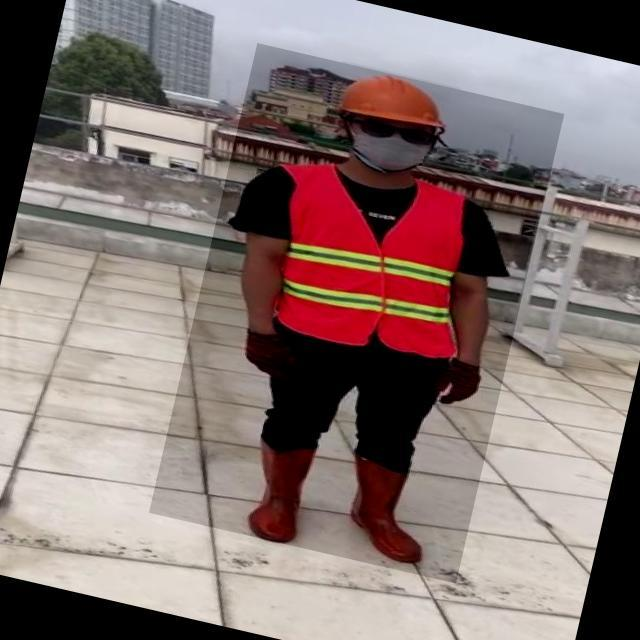Gloves: (236, 326, 304, 380), (428, 355, 485, 410)
Helmet: (330, 61, 461, 143)
Human: (149, 43, 564, 584)
Safety Boot: (334, 452, 442, 565), (240, 435, 317, 545)
Safety Vest: (258, 157, 485, 366)
